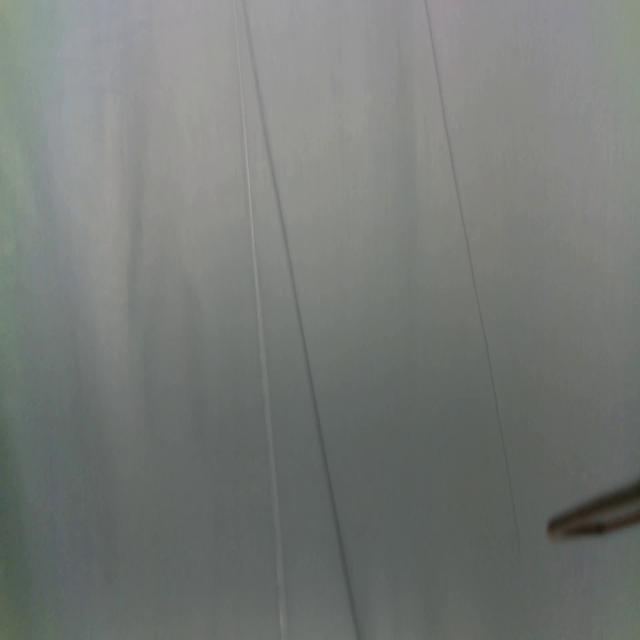crease: (245, 0, 362, 640), (429, 2, 521, 560), (234, 0, 290, 640)
